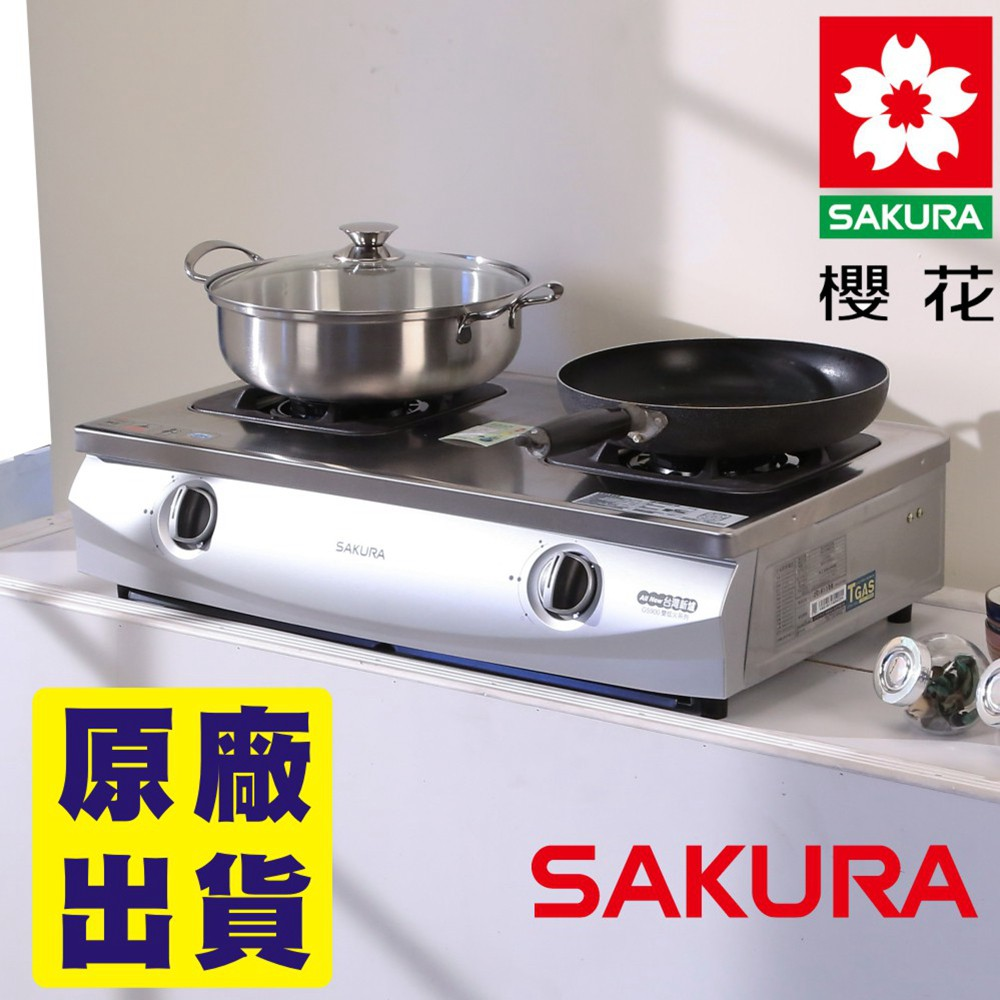gasoven: (68, 341, 972, 722)
